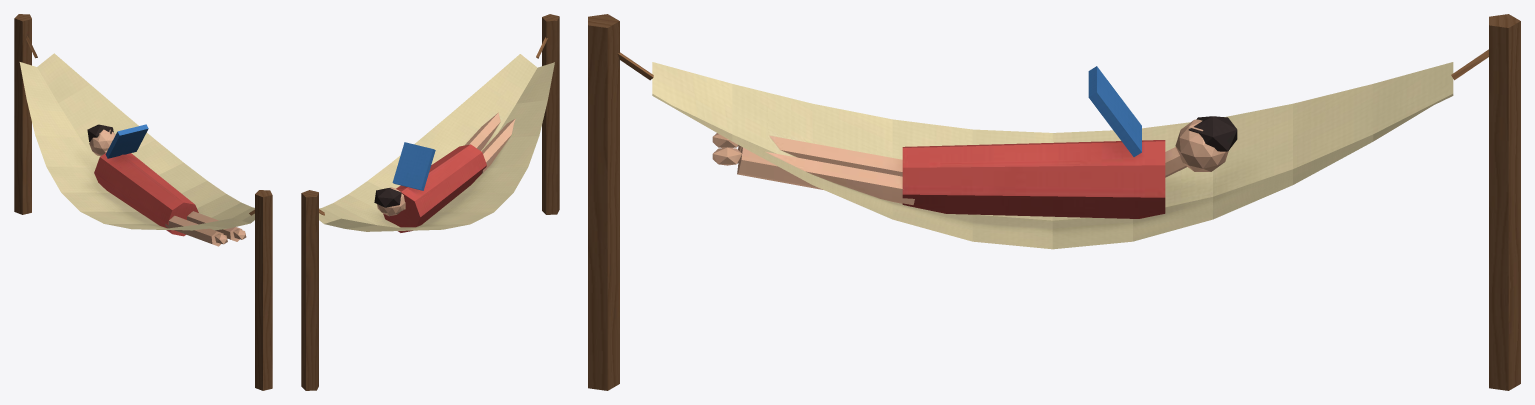
File: hangmatta_tex.glb
3 views of the same model, side by side, from view 1: azimuth 30°, elevation 25°; view 2: azimuth 150°, elevation 25°; view 3: azimuth 270°, elevation 25° (orthographic). The views are drawn at different scales.
Parts seen in each view (by area): view 1: hangmatta; view 2: hangmatta; view 3: hangmatta.
Boxes of the visible parts, left/top/right/bottom form: hangmatta: left=14, top=14, right=272, bottom=390; hangmatta: left=301, top=14, right=559, bottom=390; hangmatta: left=588, top=14, right=1520, bottom=390.
Size of the model in its own units: 1.1 by 1.6 by 3.73.
7 materials, 7 textured.
